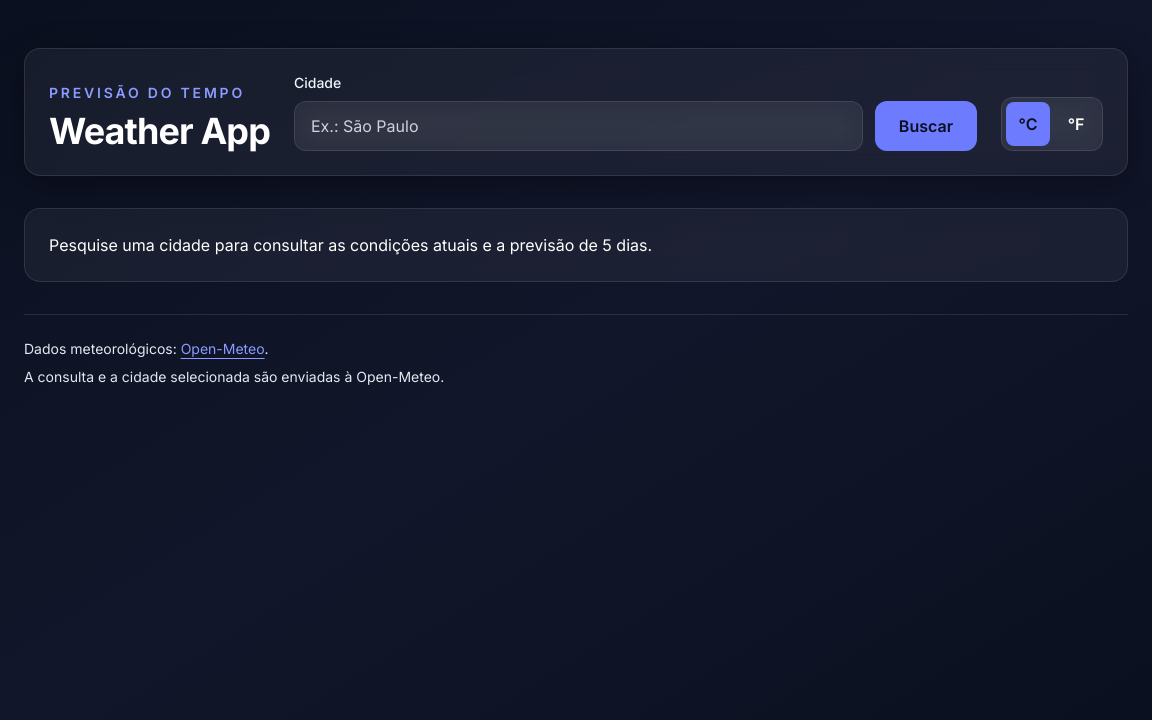
Test: App integrado aos serviços via useWeather › empty de Geocoding não consulta Forecast e mantém unidade na próxima busca
The width and height of the screenshot is (1152, 720).
Click the button "°F" at [1076, 124], box [1054,102,1098,146]
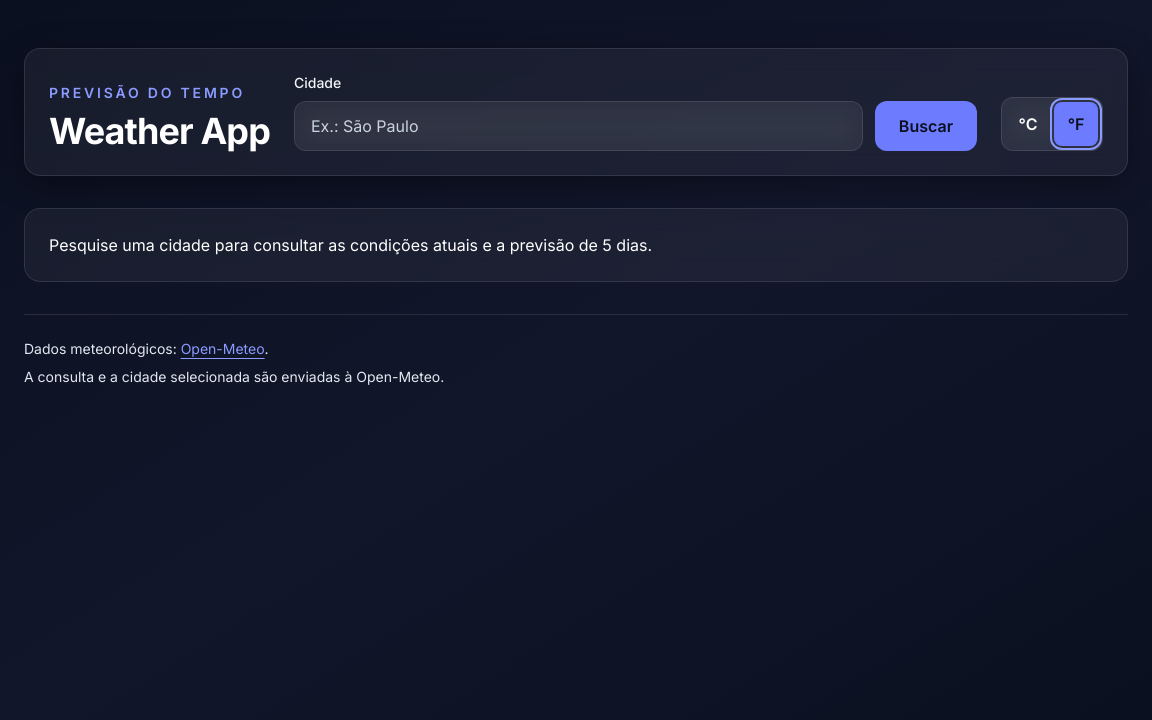
Type "Cidade inexistente" into the search field labelled "Cidade" at [578, 126], box [294,101,863,151]
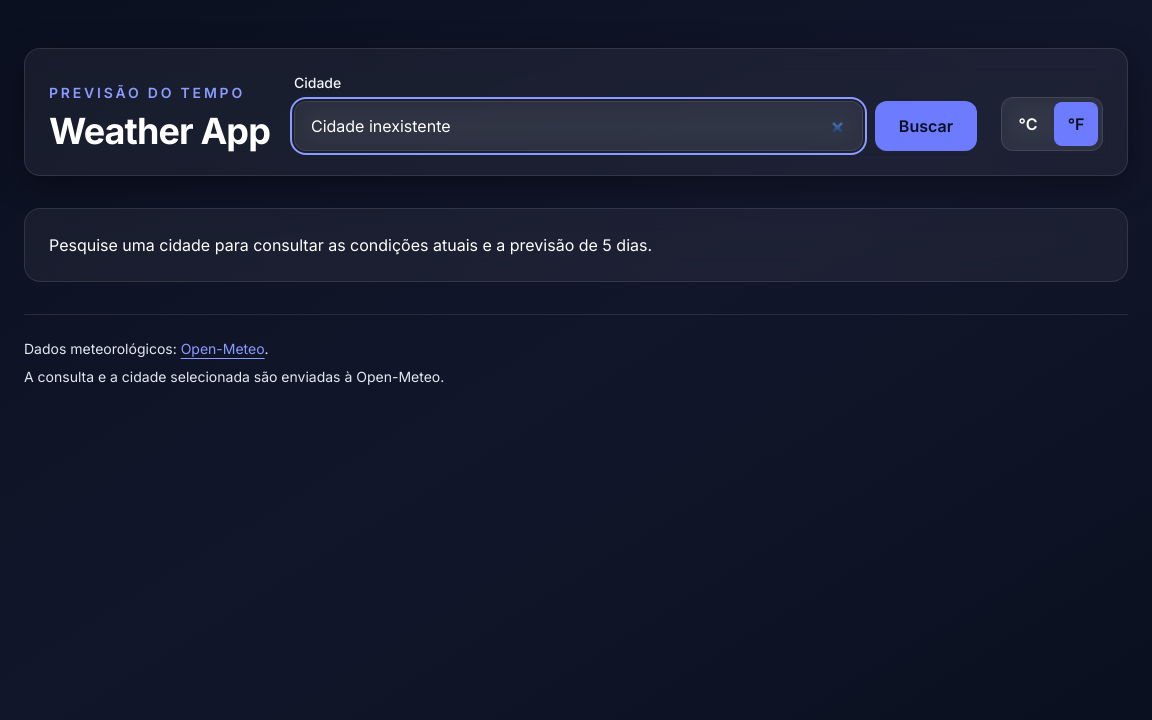
Click the button "Buscar" at [926, 126], box [875,101,977,151]
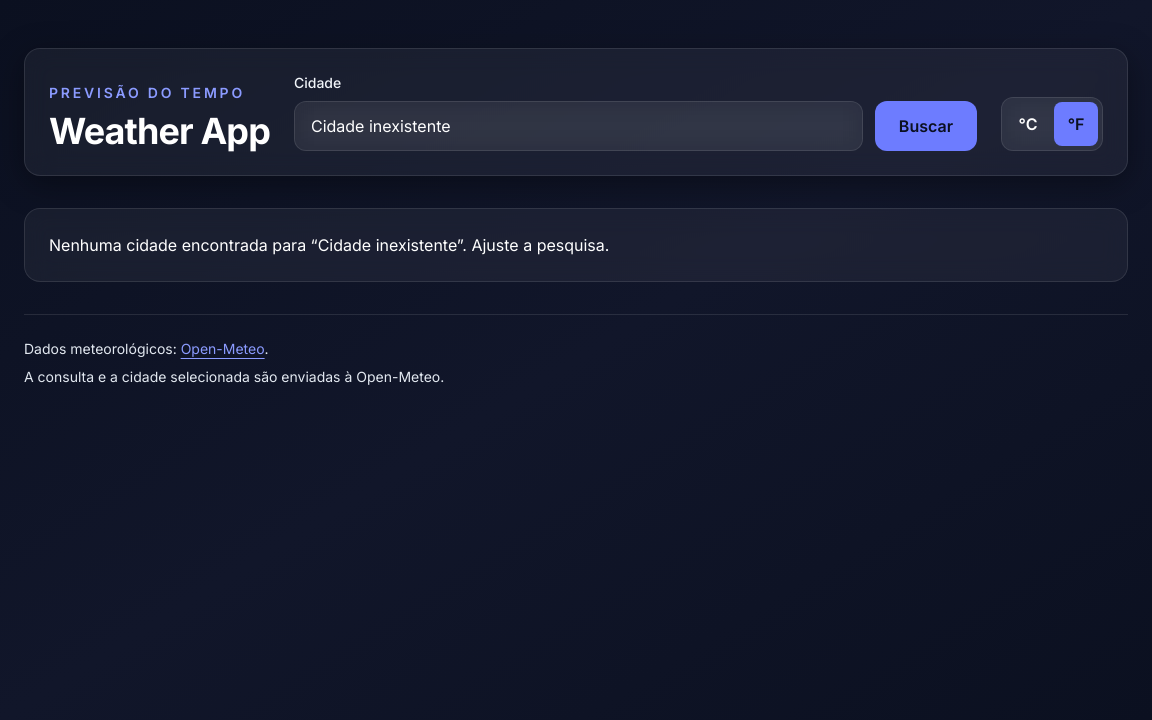
expect the element "Cidades encontradas" is not shown: met
expect the message shows "Nenhuma cidade encontrada para “Cidade inexistente”": met, box [49,235,609,255]
expect the text "previsão de 5 dias" is gone: met
Replace the text in the search field labelled "Cidade" with "São Paulo" at [578, 126], box [294,101,863,151]
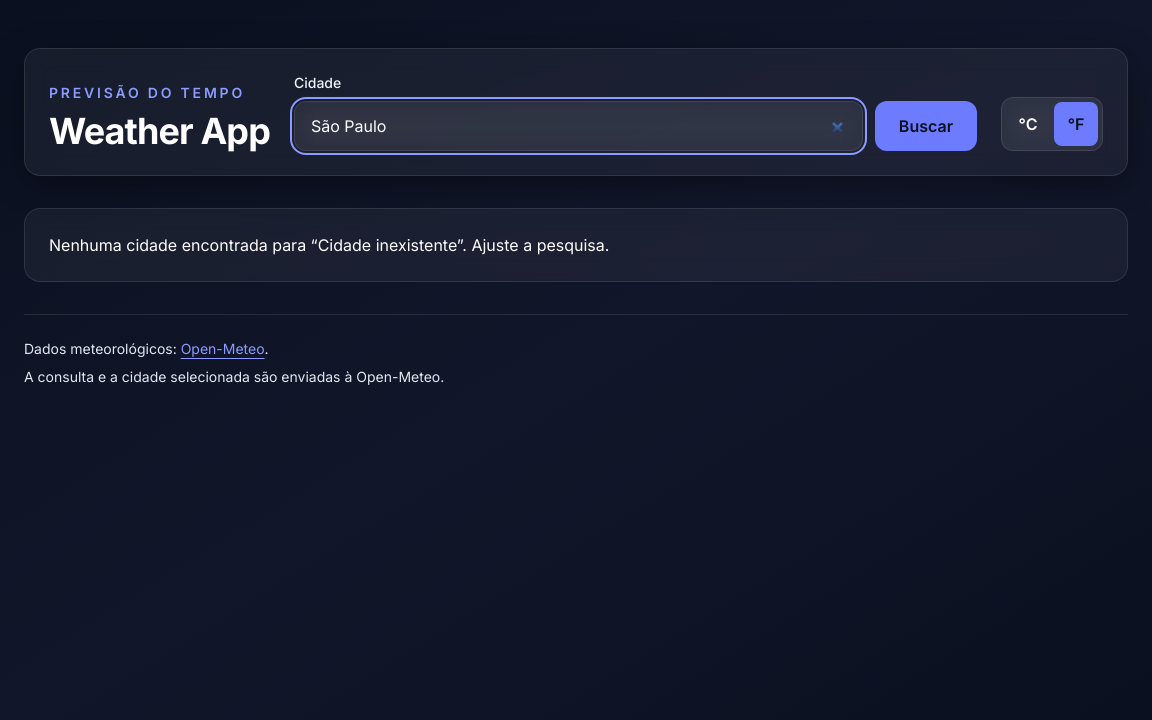
Click the button "Buscar" at [926, 126], box [875,101,977,151]
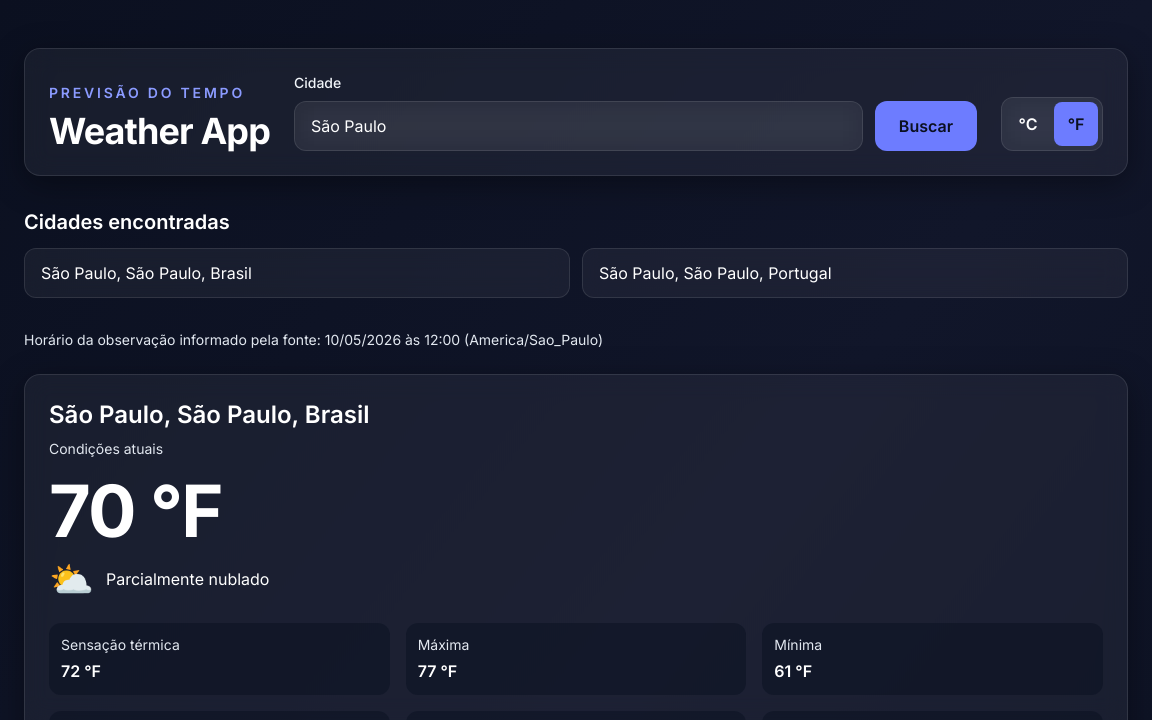
expect the heading "São Paulo, São Paulo, Brasil" is shown: met, box [49,400,370,429]
expect the heading named "Temperatura atual: 70 °F" is shown: met, box [49,467,222,554]
